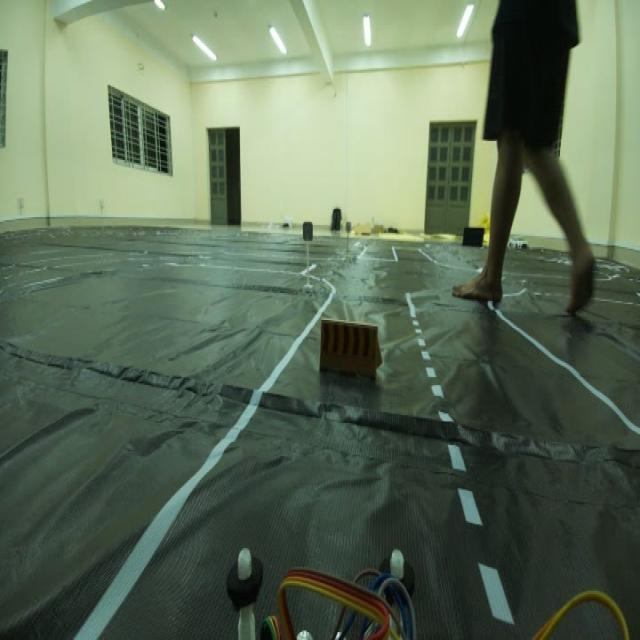roadblock: (308, 306, 388, 394)
